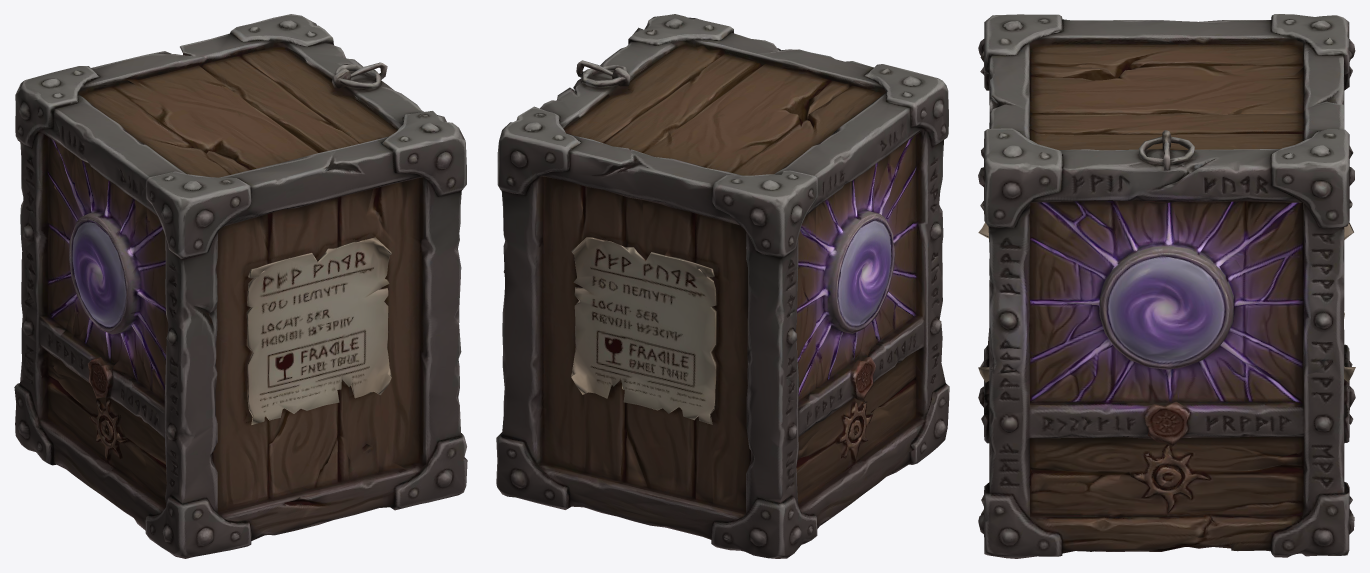
File: cargo.glb
3 views of the same model, side by side, from view 1: azimuth 30°, elevation 25°; view 2: azimuth 150°, elevation 25°; view 3: azimuth 270°, elevation 25° (orthographic). The views are drawn at different scales.
Visible parts, largest first — view 1: tripo_node_a5cc6621-6cef-4926-97a5-a815500988b1; view 2: tripo_node_a5cc6621-6cef-4926-97a5-a815500988b1; view 3: tripo_node_a5cc6621-6cef-4926-97a5-a815500988b1.
Part boxes in pixels (x1,y1,x2,y2): tripo_node_a5cc6621-6cef-4926-97a5-a815500988b1: (14,14,467,558); tripo_node_a5cc6621-6cef-4926-97a5-a815500988b1: (496,14,949,558); tripo_node_a5cc6621-6cef-4926-97a5-a815500988b1: (978,14,1355,558).
Bounding box in the file's own units: 0.8238 × 1 × 0.8301.
1 material, 1 textured.
